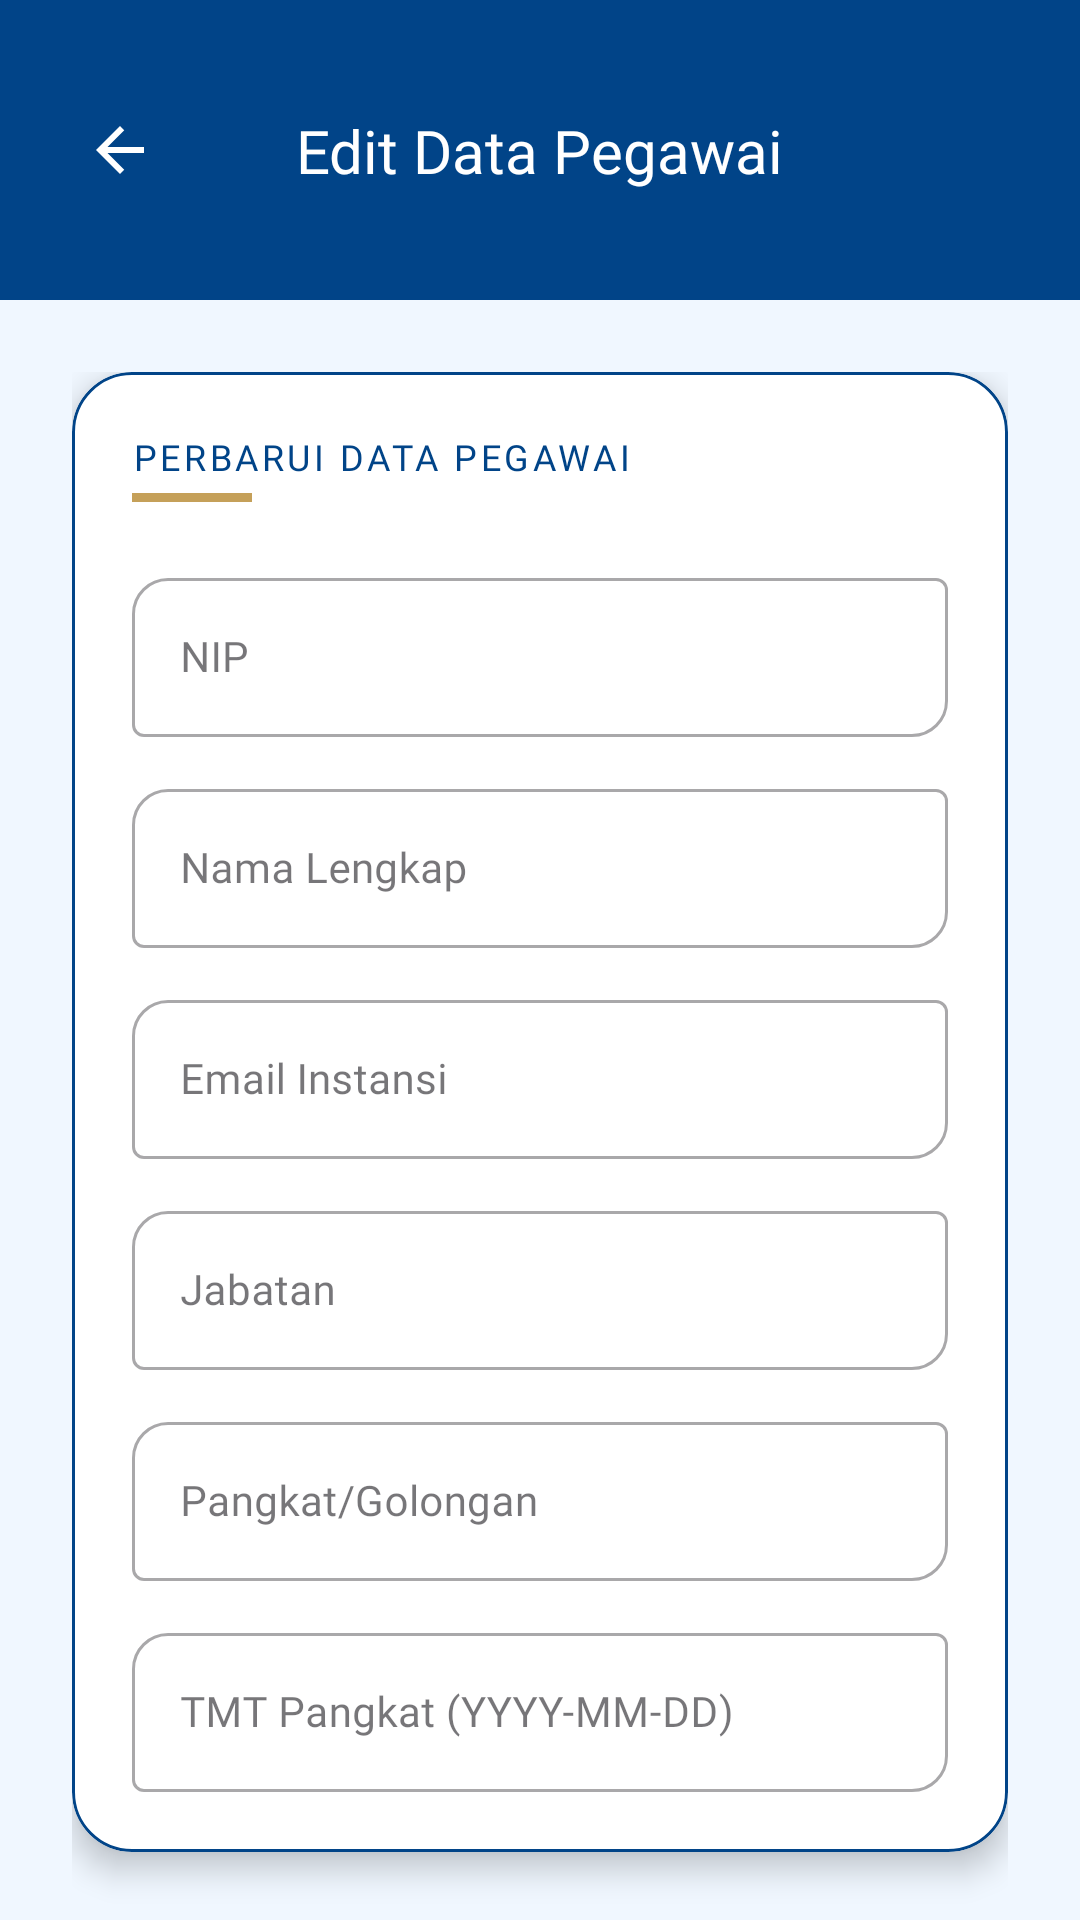

Named icons in this screenshot (1080px×1920px) and their bounding boxes, BBox(x1, y1, x2, y2):
arrow back: BBox(96, 126, 144, 174)
